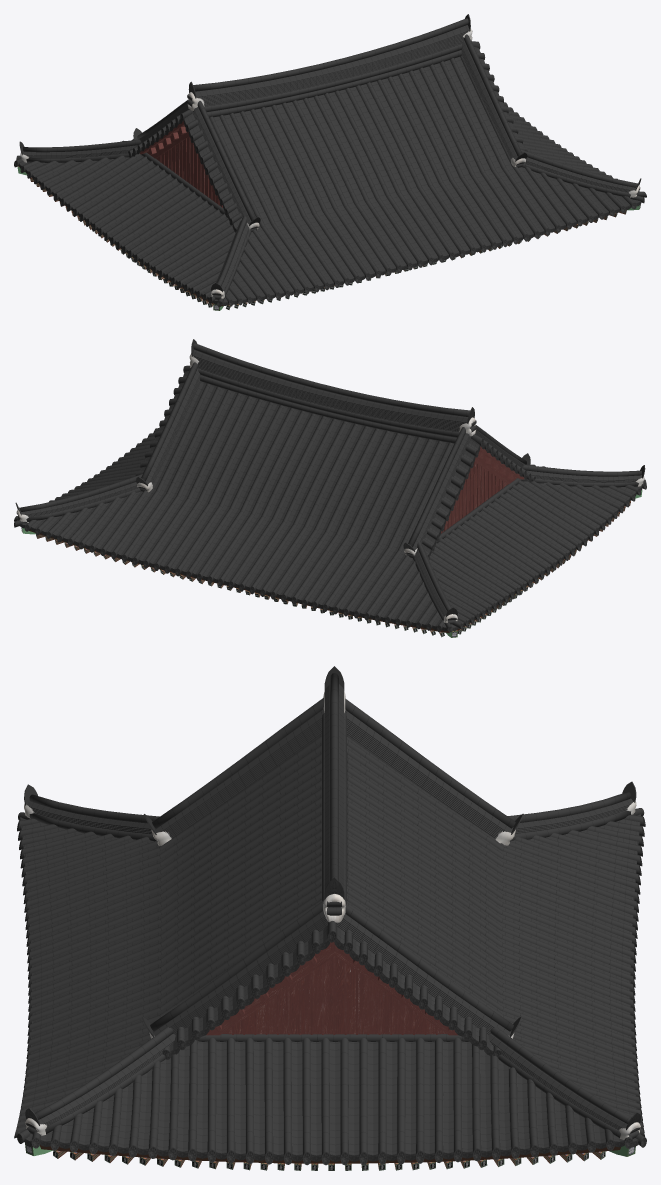
Rendered from SM_Geumsan_Mi_Roof_A.fbx.
3 views of the same model, one above another, from view 1: azimuth 30°, elevation 25°; view 2: azimuth 150°, elevation 25°; view 3: azimuth 270°, elevation 25° (orthographic). The views are drawn at different scales.
Visible parts, largest first — view 1: SM_Geumsan_Mi_Roof_A; view 2: SM_Geumsan_Mi_Roof_A; view 3: SM_Geumsan_Mi_Roof_A.
Boxes of the visible parts, box(x1,y1,x2,y2) form: SM_Geumsan_Mi_Roof_A: box(14, 14, 646, 310); SM_Geumsan_Mi_Roof_A: box(14, 339, 646, 637); SM_Geumsan_Mi_Roof_A: box(14, 666, 646, 1170).
Bounding box in the file's own units: 1714 × 572 × 1354.
